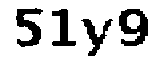1: (46, 5, 78, 52)
5: (12, 3, 45, 53)
9: (114, 5, 152, 54)
y: (80, 16, 112, 60)
